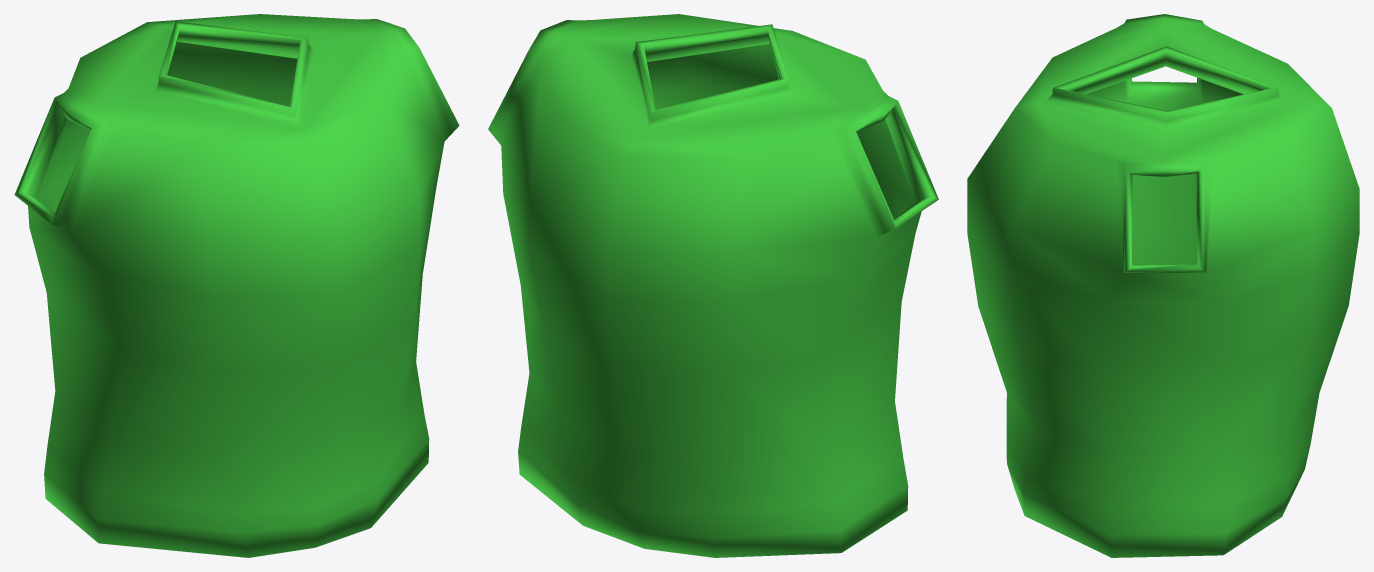
The model's file is armor3.fbx.
3 views of the same model, side by side, from view 1: azimuth 30°, elevation 25°; view 2: azimuth 150°, elevation 25°; view 3: azimuth 270°, elevation 25° (orthographic). The views are drawn at different scales.
Parts seen in each view (by area): view 1: body; view 2: body; view 3: body.
Boxes of the visible parts, bbox=[...] form: body: bbox=[14, 14, 459, 557]; body: bbox=[488, 14, 938, 557]; body: bbox=[967, 14, 1359, 557].
Bounding box in the file's own units: 75.26 × 76.69 × 66.42.
